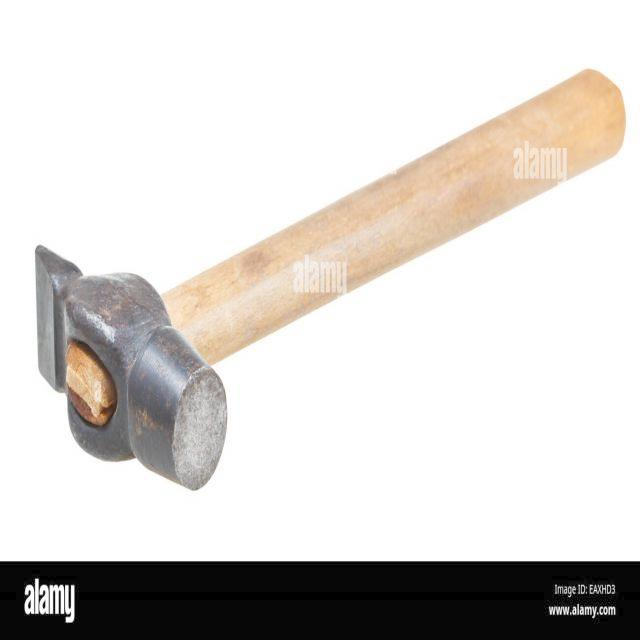hammer: (31, 62, 629, 500)
